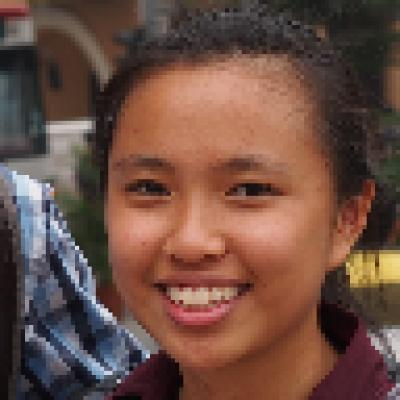happy: (66, 27, 362, 378)
